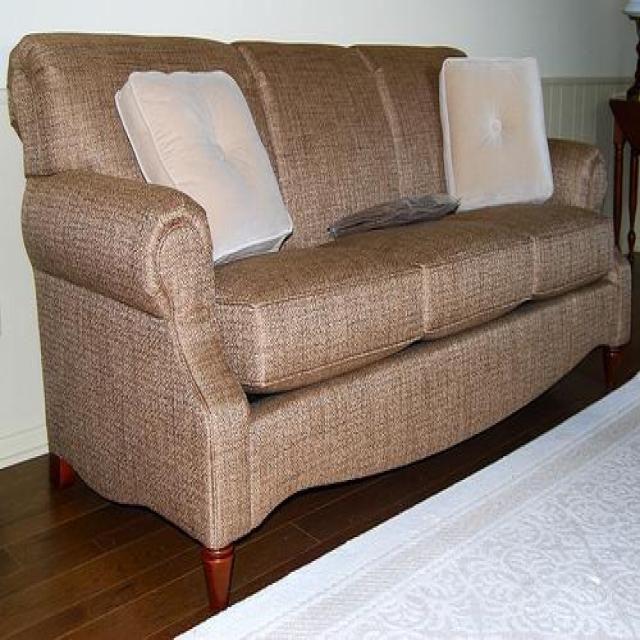sofa: (10, 30, 635, 615)
